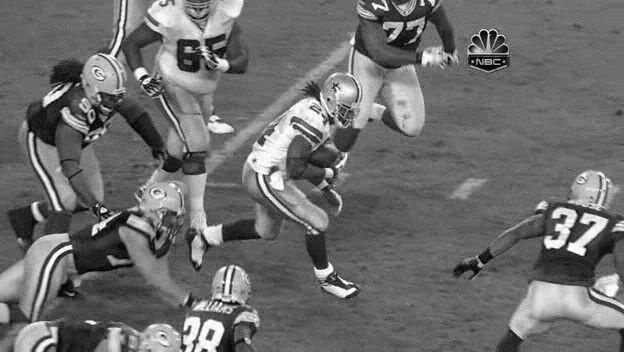person: (325, 73, 361, 124), (324, 73, 360, 124), (326, 73, 362, 124), (325, 72, 361, 123), (325, 74, 361, 125)
target_negative: (75, 198, 156, 272), (335, 322, 508, 337), (461, 252, 547, 270), (557, 247, 572, 283), (623, 213, 624, 307)
